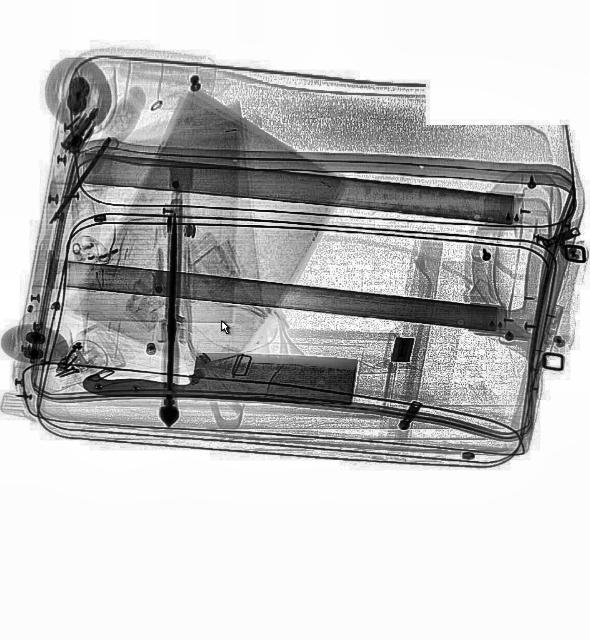Knife: (80, 348, 357, 408), (162, 212, 178, 388)
